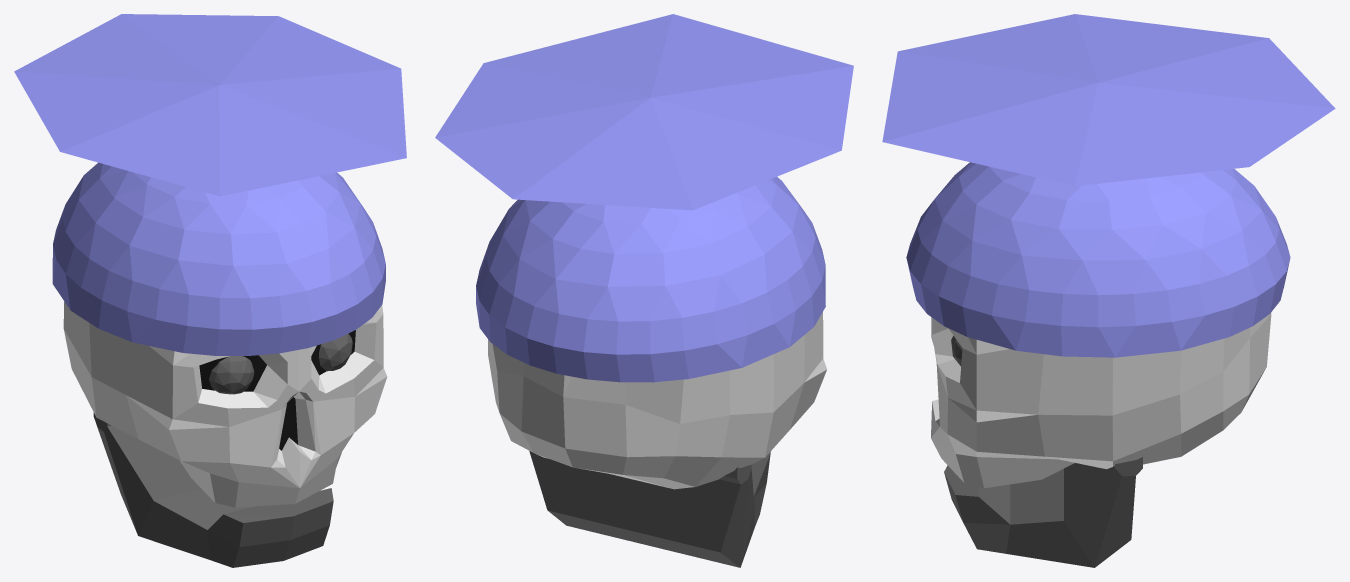
Rendered from SobbySkullPlaceholder.fbx.
3 renders of one model, left to right at view 1: azimuth 30°, elevation 25°; view 2: azimuth 150°, elevation 25°; view 3: azimuth 270°, elevation 25°, orthographic. The views are drawn at different scales.
Visible parts, largest first — view 1: Cube; view 2: Cube; view 3: Cube.
Part boxes in pixels (bbox=[...]): Cube: bbox=[14, 14, 406, 567]; Cube: bbox=[435, 14, 853, 567]; Cube: bbox=[882, 14, 1335, 567].
Size of the model in its own units: 80.5 by 96.71 by 89.5.
